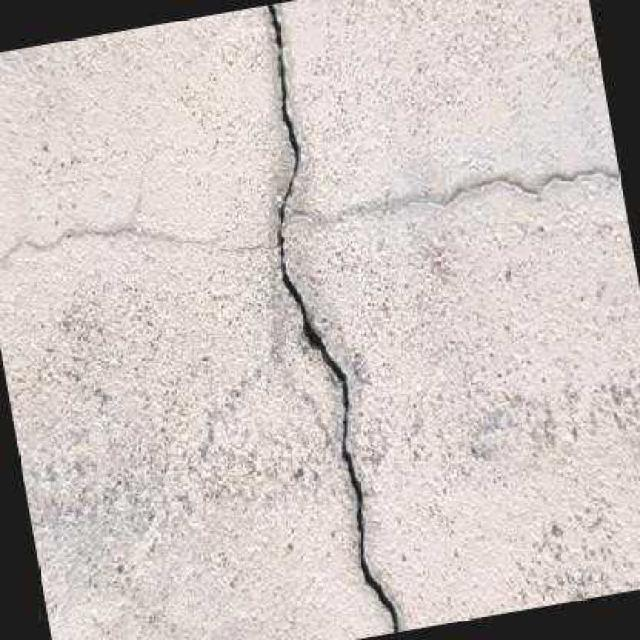D00: (265, 3, 399, 632)
